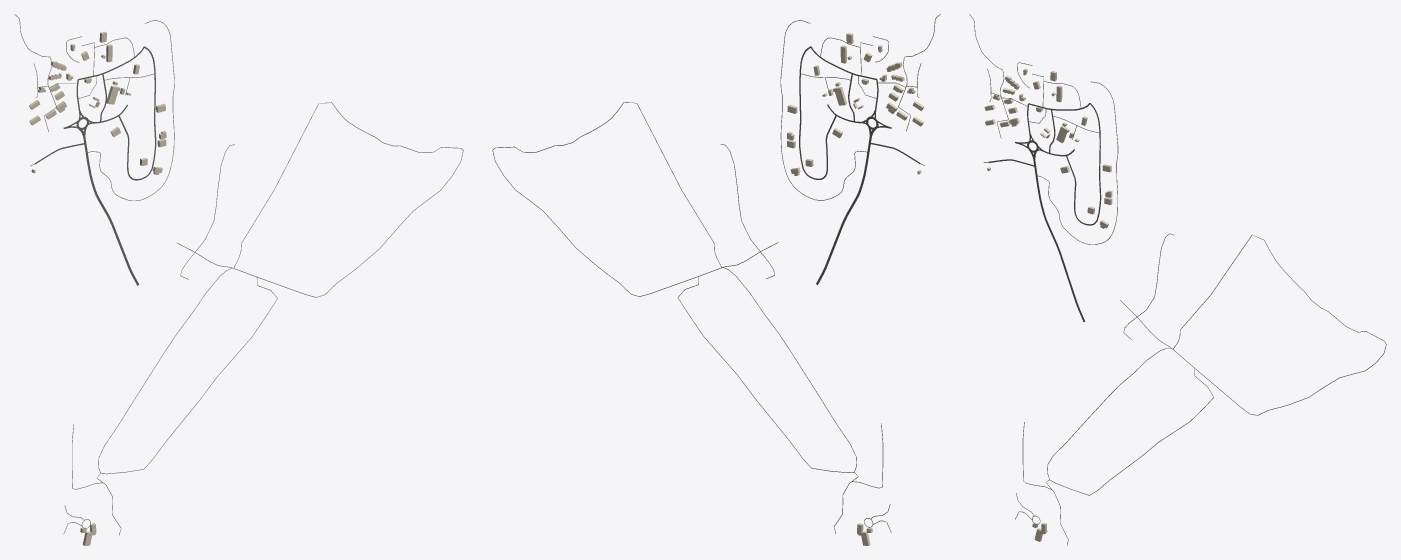
Rendered from historic-palestine-13_31_3552_3251.glb.
3 views of the same model, side by side, from view 1: azimuth 30°, elevation 25°; view 2: azimuth 150°, elevation 25°; view 3: azimuth 330°, elevation 25° (orthographic). The views are drawn at different scales.
Bounding box in the file's own units: 1053 × 1232 × 8.7.
